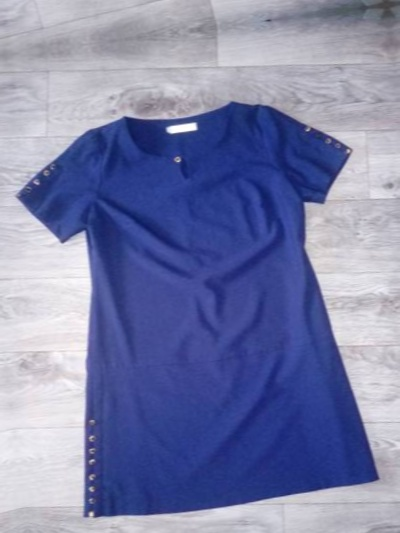Dress: (0, 45, 400, 533), (0, 98, 23, 533), (0, 0, 351, 22)
